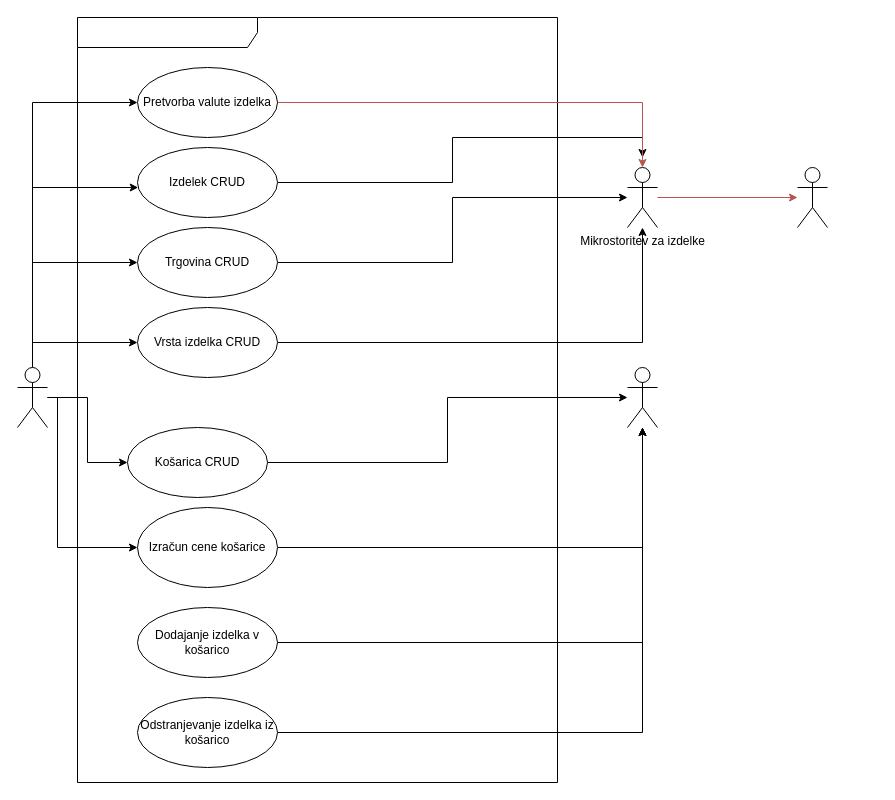
Image size: 895x800. Some labels were removed from this diagram. Here are the shapes that lost their labels. From the top down, the box of each, then its label:
(796, 166, 828, 228): Zunanja mikrostoritev za pretvorbo valut
(16, 366, 48, 428): Actor
(76, 16, 558, 782): Seznam primerov uporabe
(626, 366, 658, 428): Mikrostoritev za košarice
